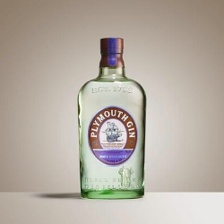bottle: (70, 30, 152, 203)
